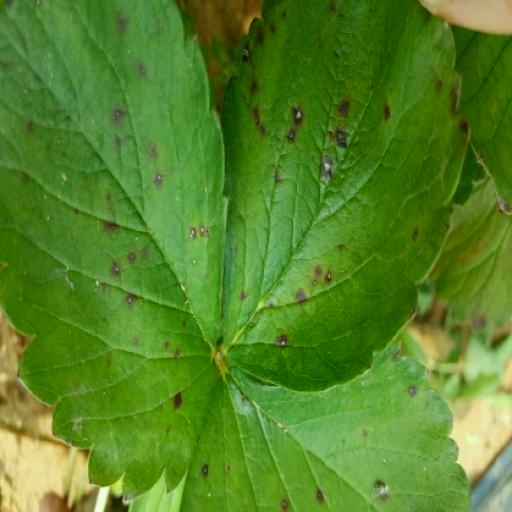Leaf Spot: (284, 6, 511, 511), (42, 119, 292, 511), (40, 0, 334, 177)
